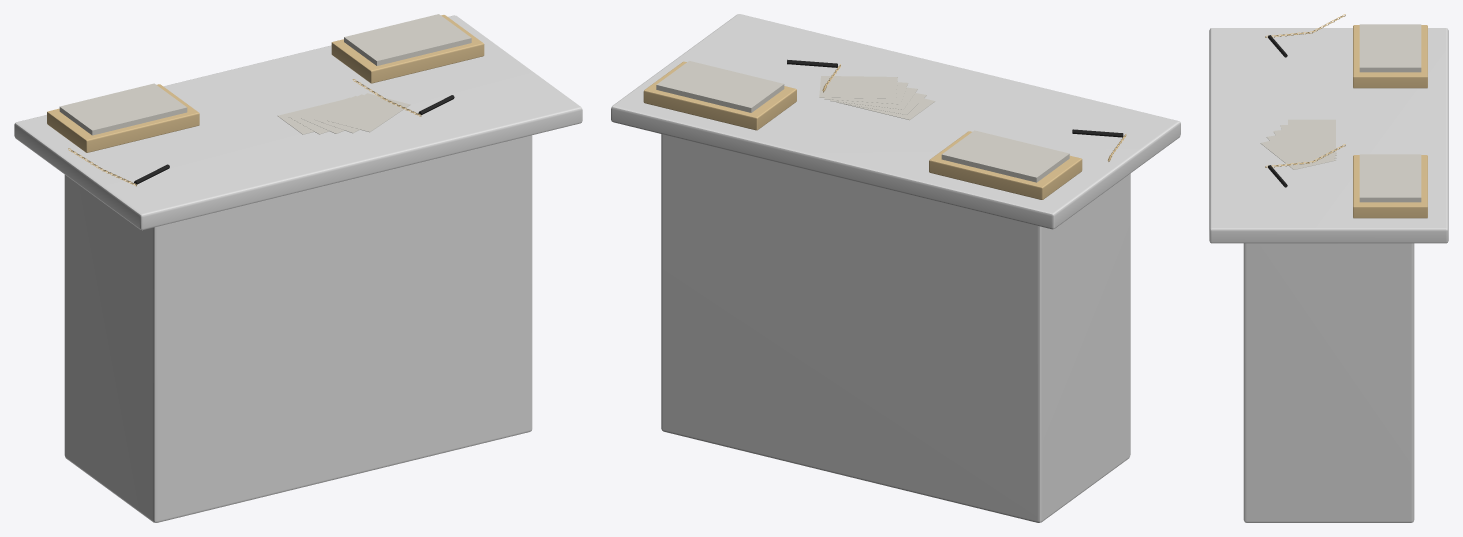
Rendered from SM_Check_Desk.fbx.
3 views of the same model, side by side, from view 1: azimuth 30°, elevation 25°; view 2: azimuth 150°, elevation 25°; view 3: azimuth 270°, elevation 25° (orthographic). The views are drawn at different scales.
Visible parts, largest first — view 1: SM_Check_Desk_1; view 2: SM_Check_Desk_1; view 3: SM_Check_Desk_1.
Boxes of the visible parts, bbox=[...] form: SM_Check_Desk_1: bbox=[14, 14, 582, 522]; SM_Check_Desk_1: bbox=[611, 14, 1180, 522]; SM_Check_Desk_1: bbox=[1209, 14, 1448, 522].
Bounding box in the file's own units: 140 × 105 × 70.
